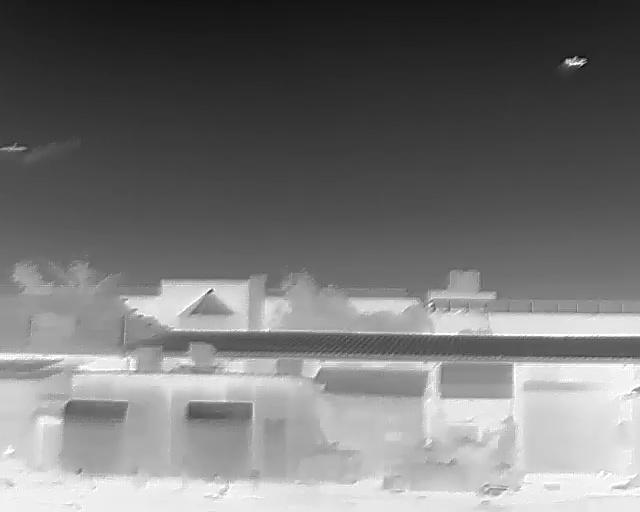fpv-drone: (561, 56, 587, 69)
